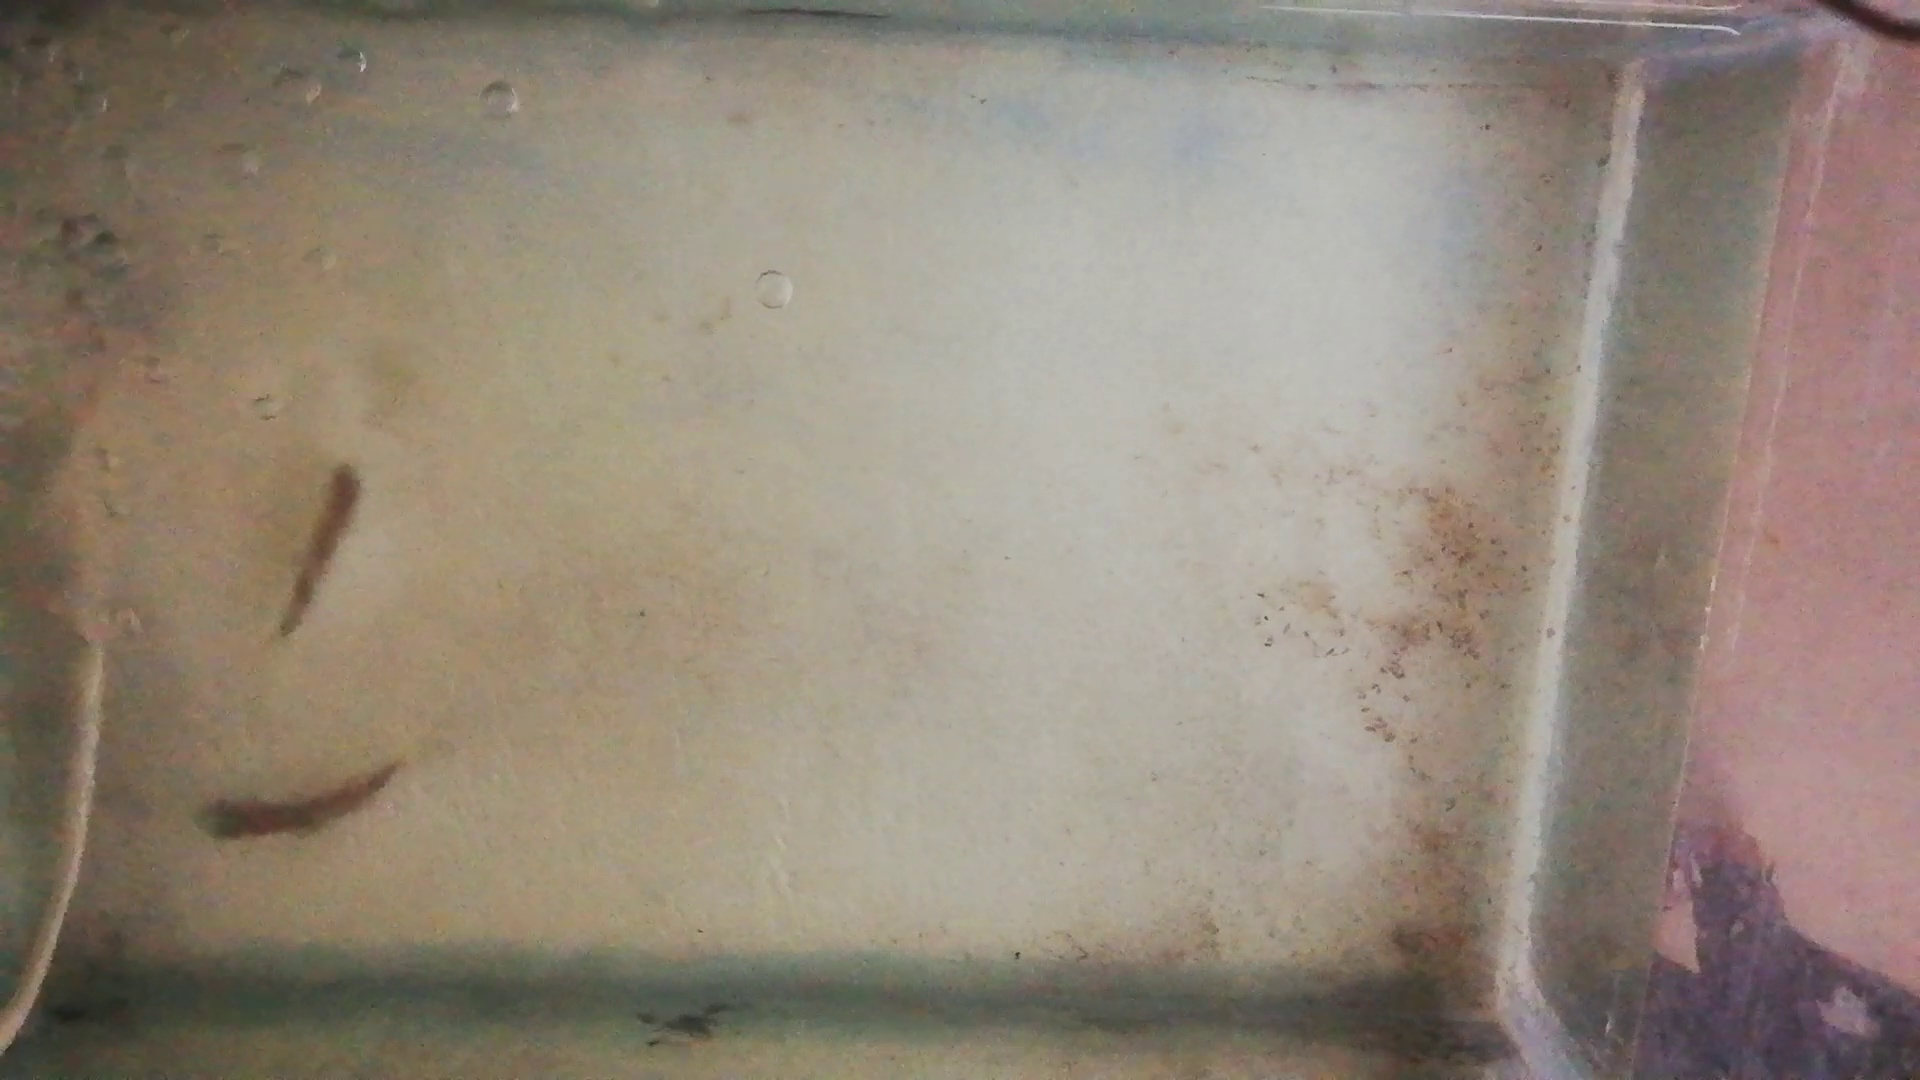fish: (193, 760, 398, 841), (277, 463, 363, 634)
